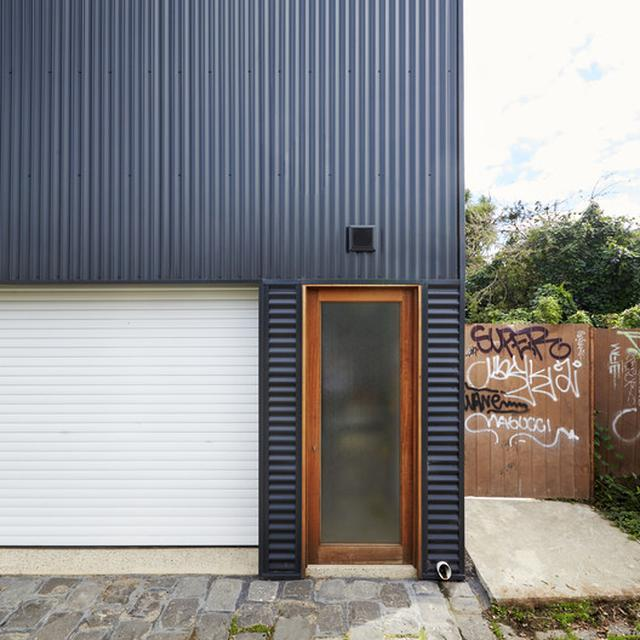building: (0, 0, 465, 585)
